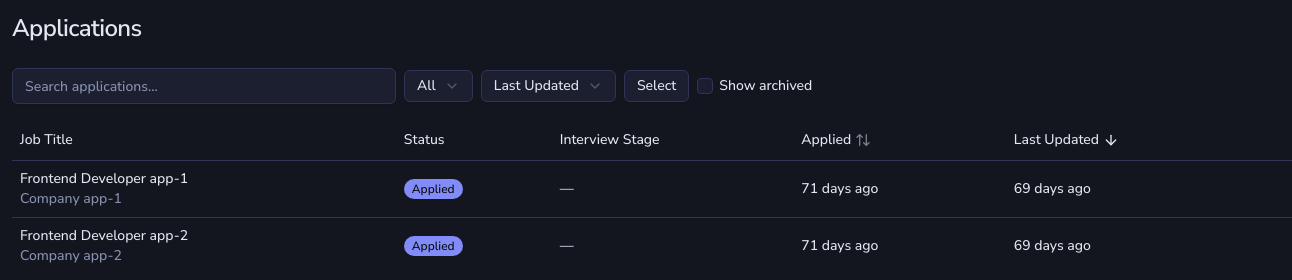
Test: ApplicationsList › search filtering › filters rows client-side by search text
expect the text "Frontend Developer app-1" is shown: met, box [20,168,188,188]
Type "app-2" into the field with placeholder "Search applications..." at (204, 86), box [12,68,396,104]
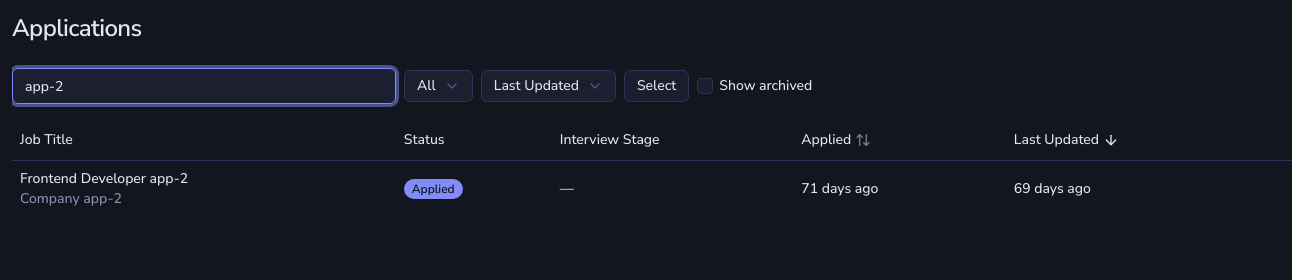
expect the text "Frontend Developer app-2" is shown: met, box [20,168,188,188]
expect the button "Frontend Developer app-1" is gone: met
